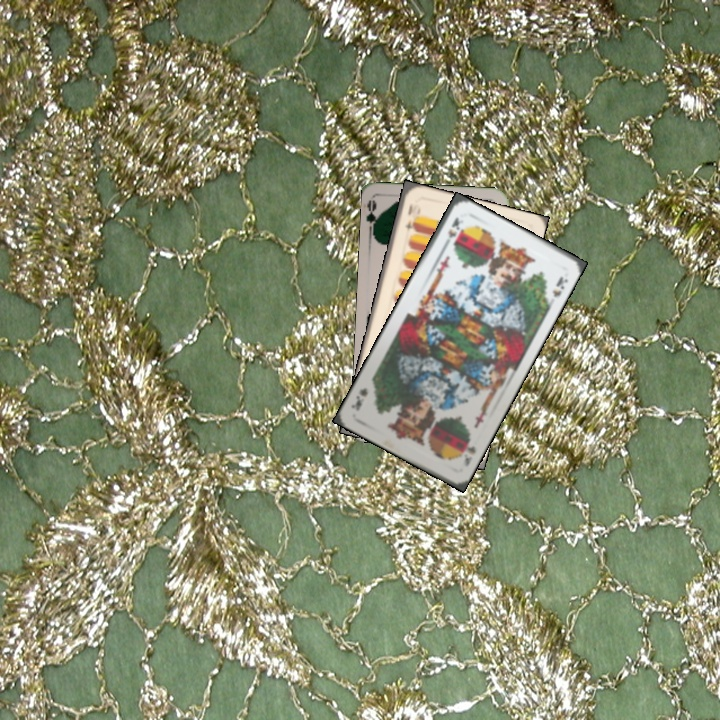E10: (401, 199, 419, 238)
GO: (363, 196, 383, 237)
SK: (439, 213, 463, 249), (454, 434, 478, 469)
